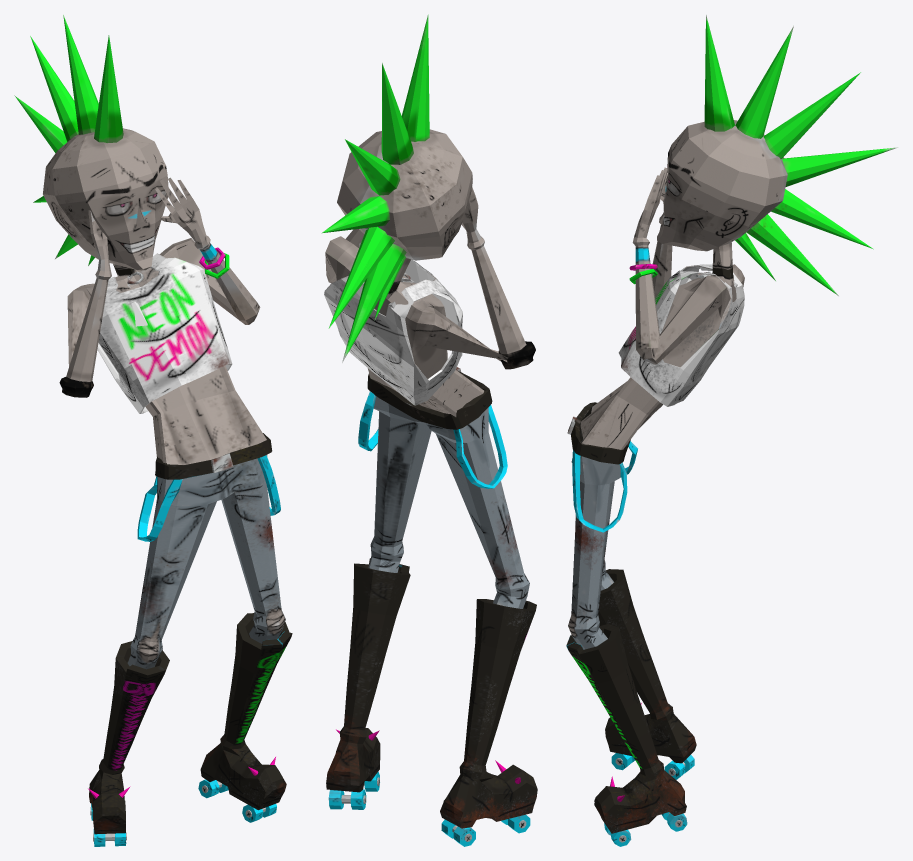
Rendered from punkAnimation_000016.obj.
3 views of the same model, side by side, from view 1: azimuth 30°, elevation 25°; view 2: azimuth 150°, elevation 25°; view 3: azimuth 270°, elevation 25° (orthographic). The views are drawn at different scales.
Parts seen in each view (by area): view 1: Cube.004_Cube.003; view 2: Cube.004_Cube.003; view 3: Cube.004_Cube.003.
Part boxes in pixels (box(x1,y1,x2,y2)): Cube.004_Cube.003: box(14, 15, 292, 846); Cube.004_Cube.003: box(321, 14, 537, 846); Cube.004_Cube.003: box(566, 15, 897, 846).
Size of the model in its own units: 1.93 by 7.21 by 2.8.
